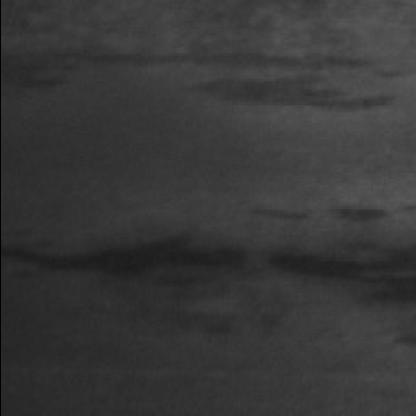inclusion: (26, 19, 406, 108), (2, 226, 416, 298), (239, 189, 397, 235)
